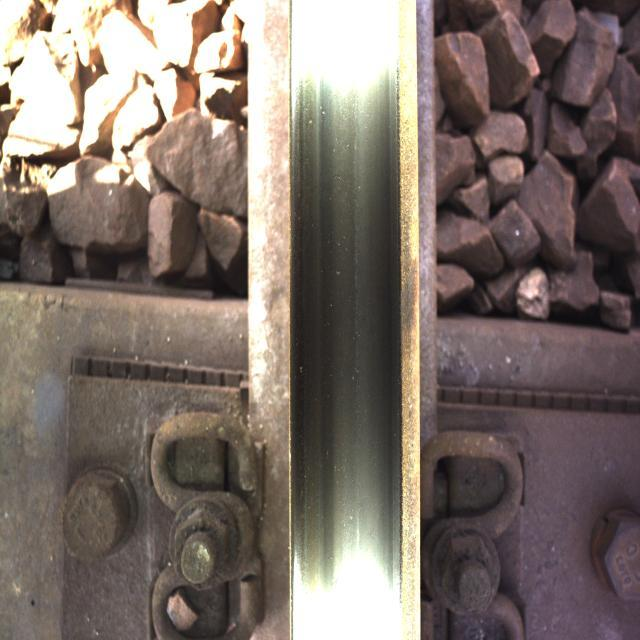break: (288, 30, 402, 612)
